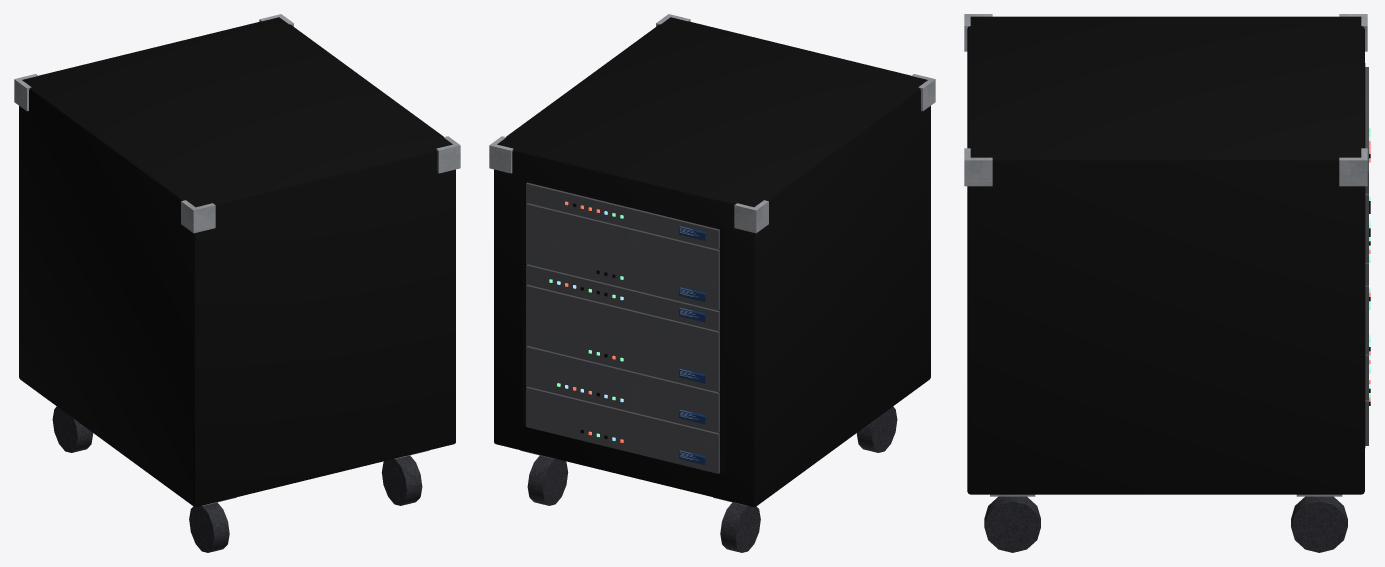
Rendered from rack_12u.gltf.
The picture shows the model from 3 angles, left to right: view 1: azimuth 30°, elevation 25°; view 2: azimuth 150°, elevation 25°; view 3: azimuth 270°, elevation 25°; orthographic projection. The views are drawn at different scales.
Parts seen in each view (by area): view 1: rack_12u; view 2: rack_12u; view 3: rack_12u.
Boxes of the visible parts, <box> form: rack_12u: <box>14,14,460,552</box>; rack_12u: <box>489,14,935,552</box>; rack_12u: <box>964,14,1370,552</box>.
Size of the model in its own units: 0.61 by 0.794 by 0.715.
Materials: 10 (7 with a texture image).
